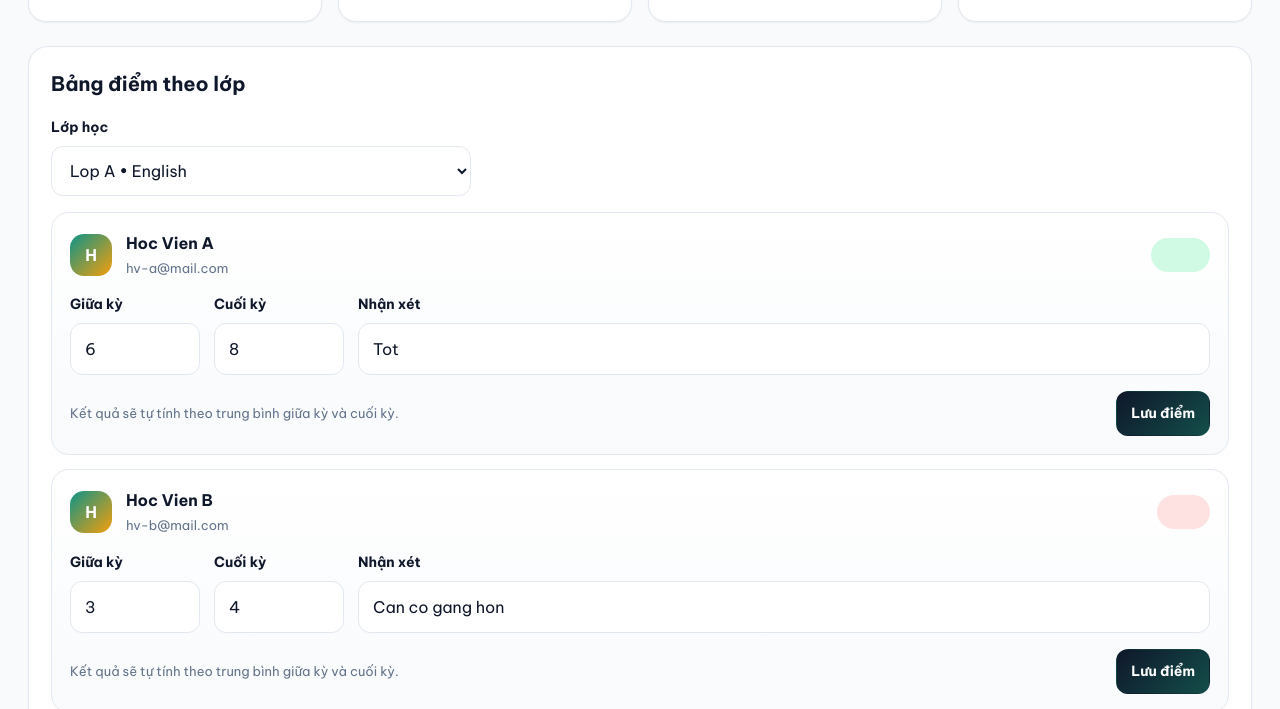
it: TeacherGradesPage › hien thi trang thai va cap nhat diem bang PUT
(page scrolled)
Expected: the text "Hoc Vien A" is shown, top-left (126, 231), bottom-right (228, 255)
Expected: the text "Hoc Vien B" is shown, top-left (126, 490), bottom-right (213, 510)
Replace the text in the number field labelled "Giữa kỳ" below "hv-a@mail.com" with "7" at (135, 350), box top-left (70, 324), bottom-right (200, 376)
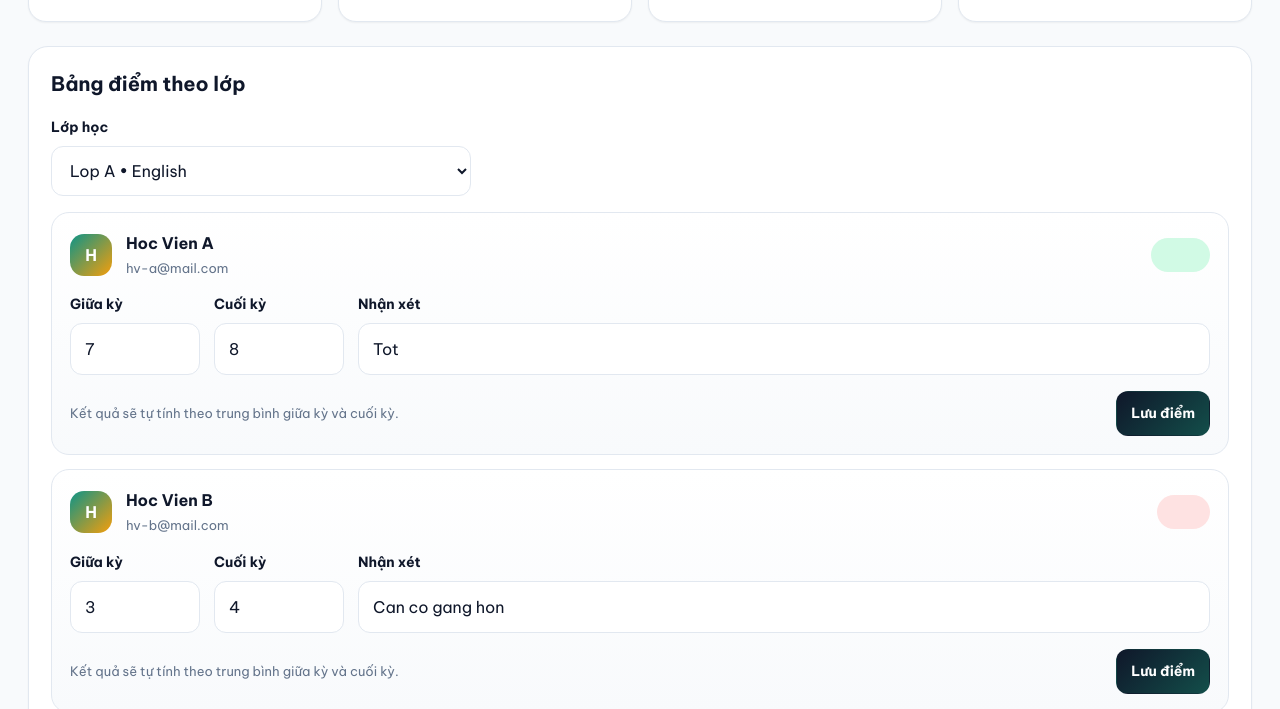
Replace the text in the number field labelled "Cuối kỳ" below "hv-a@mail.com" with "9" at (279, 350), box top-left (214, 324), bottom-right (344, 376)
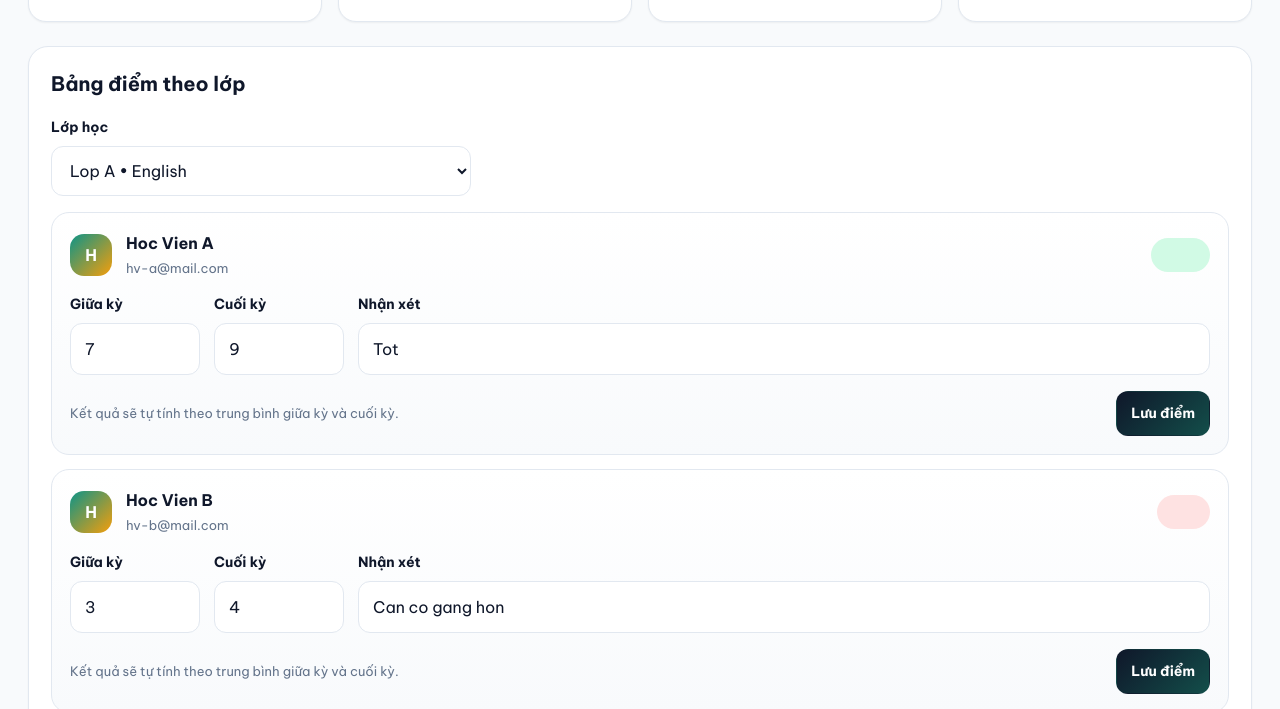
Click the button "Lưu điểm" below "PASS" at (1163, 414), box top-left (1116, 392), bottom-right (1210, 436)
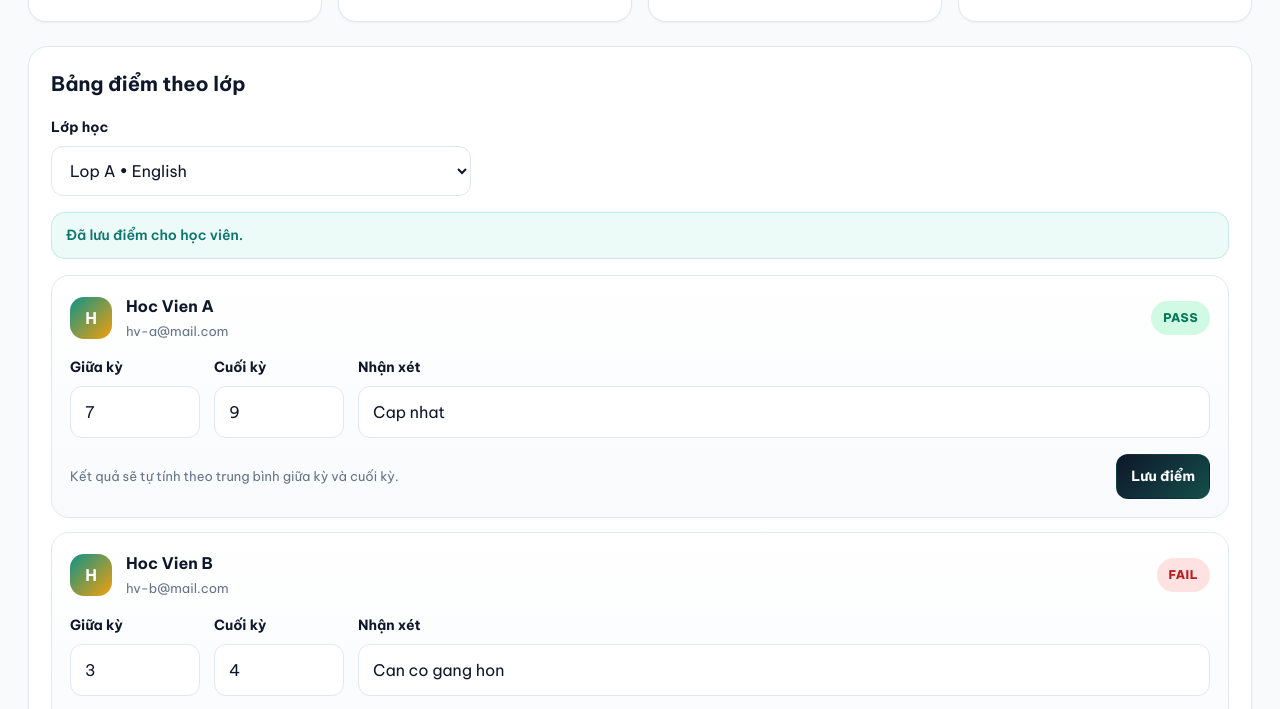
Expected: the text "Đã lưu điểm cho học viên." is shown, top-left (51, 212), bottom-right (1229, 259)
